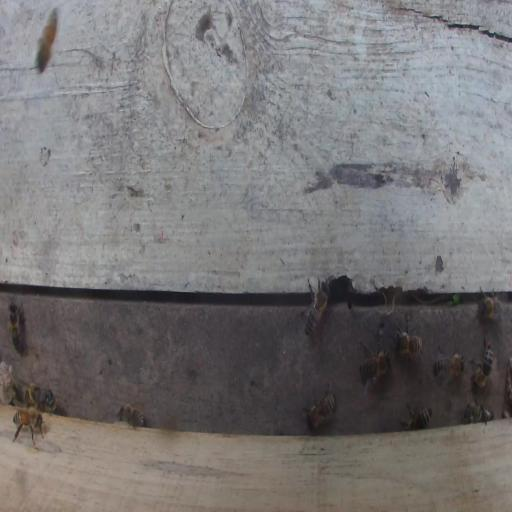bee: (358, 340, 393, 394), (301, 277, 330, 337), (35, 8, 58, 74), (303, 388, 337, 430), (12, 406, 47, 445), (471, 334, 493, 390), (393, 323, 423, 362), (433, 351, 466, 385), (399, 402, 433, 430), (477, 286, 502, 322), (8, 299, 23, 356), (117, 403, 147, 428), (462, 401, 494, 424), (42, 389, 57, 416), (25, 383, 41, 408)
